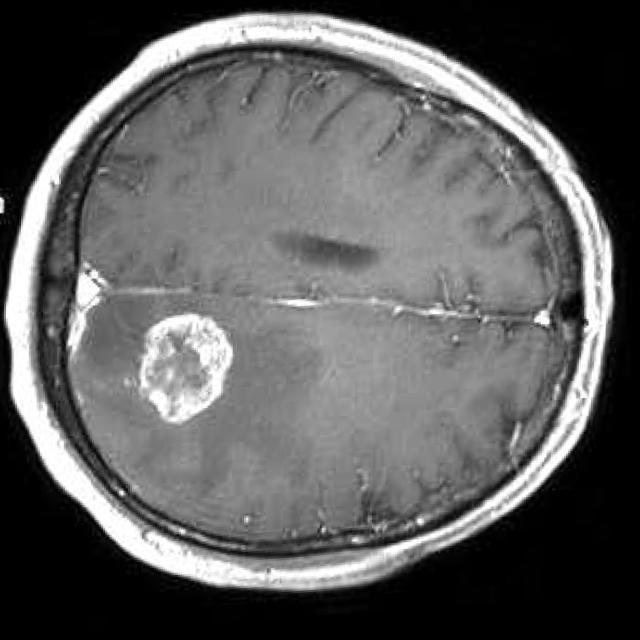Tumor: (143, 317, 234, 426)
